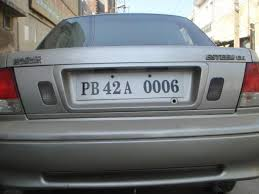numberplate: (72, 75, 187, 99)
